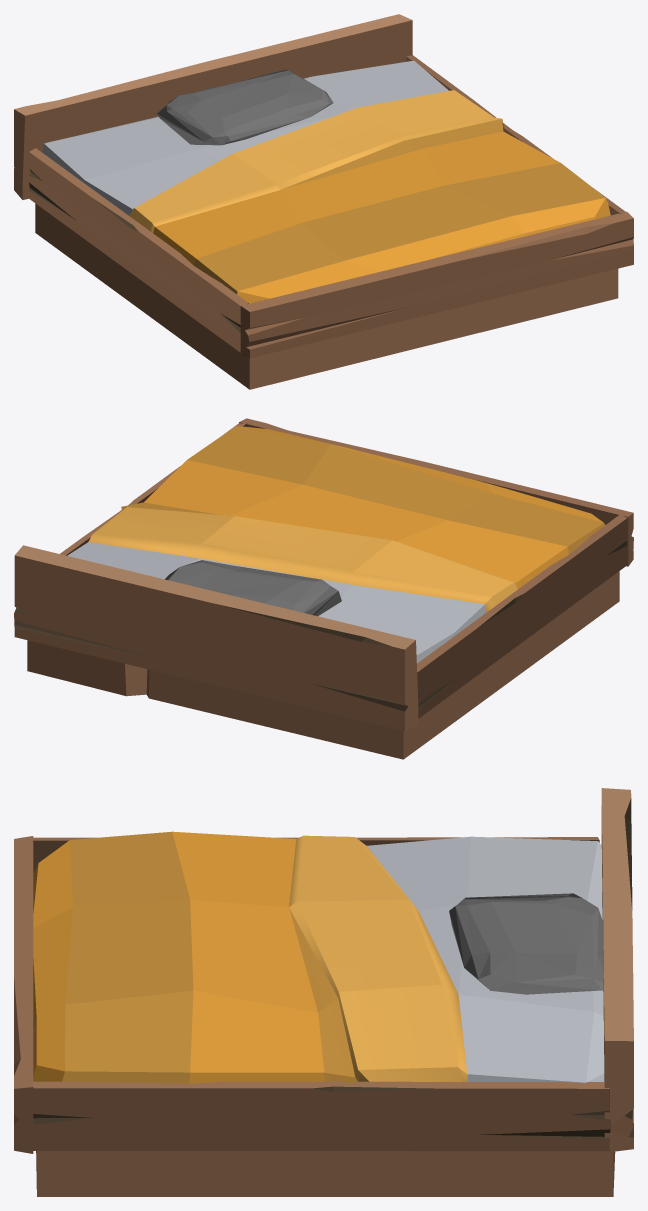
File: Flore_DubbleBed_floorYellow.fbx
The picture shows the model from 3 angles, top to bottom: view 1: azimuth 30°, elevation 25°; view 2: azimuth 150°, elevation 25°; view 3: azimuth 270°, elevation 25°; orthographic projection. The views are drawn at different scales.
Visible parts, largest first — view 1: Flore_DubbleBed_floorYellow; view 2: Flore_DubbleBed_floorYellow; view 3: Flore_DubbleBed_floorYellow.
Boxes of the visible parts, <box> form: Flore_DubbleBed_floorYellow: <box>14,14,633,389</box>; Flore_DubbleBed_floorYellow: <box>14,418,633,759</box>; Flore_DubbleBed_floorYellow: <box>14,788,633,1196</box>.
Size of the model in its own units: 2.04 by 0.599 by 2.09.
